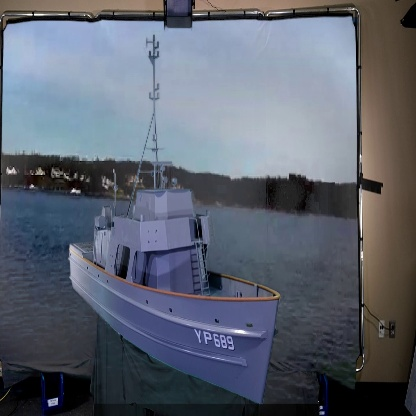YP689: (69, 38, 280, 405)
